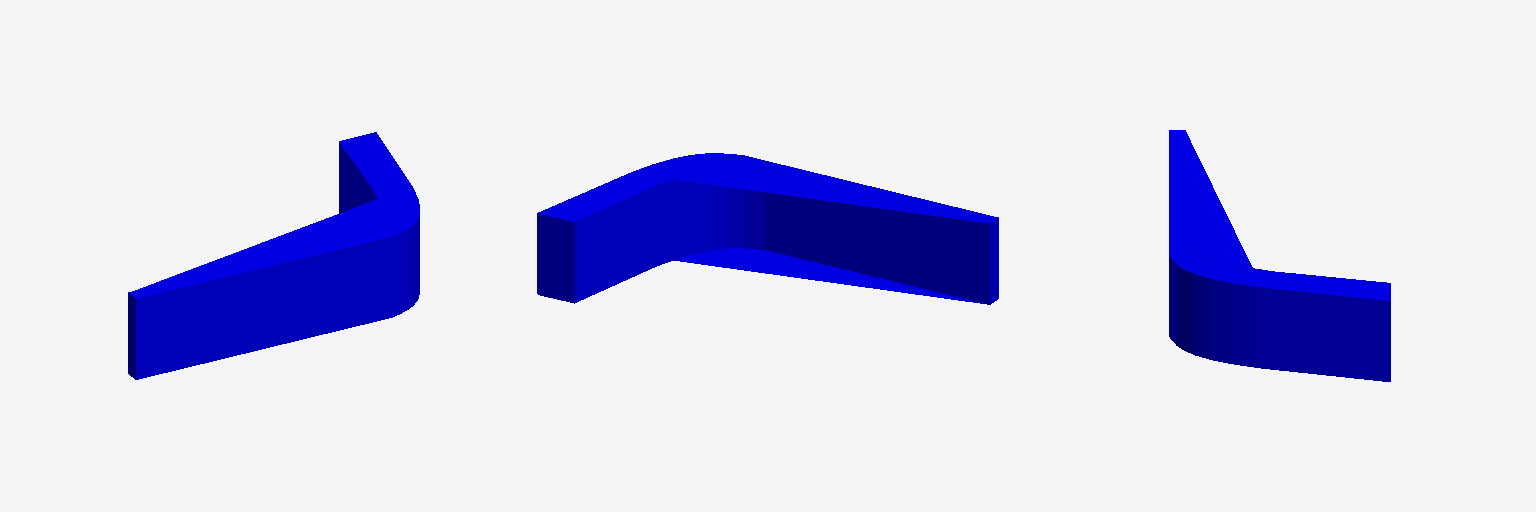
3 renders of one model, left to right at view 1: azimuth 30°, elevation 25°; view 2: azimuth 150°, elevation 25°; view 3: azimuth 270°, elevation 25°, orthographic.
Visible parts, largest first — view 1: Obstaculo_01; view 2: Obstaculo_01; view 3: Obstaculo_01.
Part boxes in pixels (bbox=[...]): Obstaculo_01: bbox=[128, 132, 419, 379]; Obstaculo_01: bbox=[537, 153, 998, 304]; Obstaculo_01: bbox=[1169, 130, 1390, 381].
Bounding box in the file's own units: 36.51 × 8.12 × 20.05.